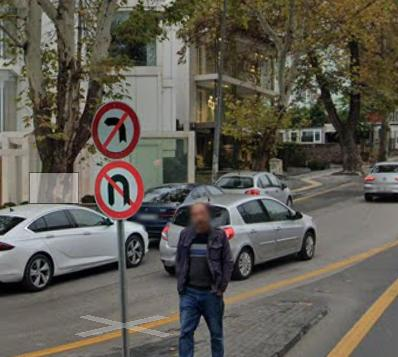leftturnsareforbidden: (91, 101, 143, 159)
